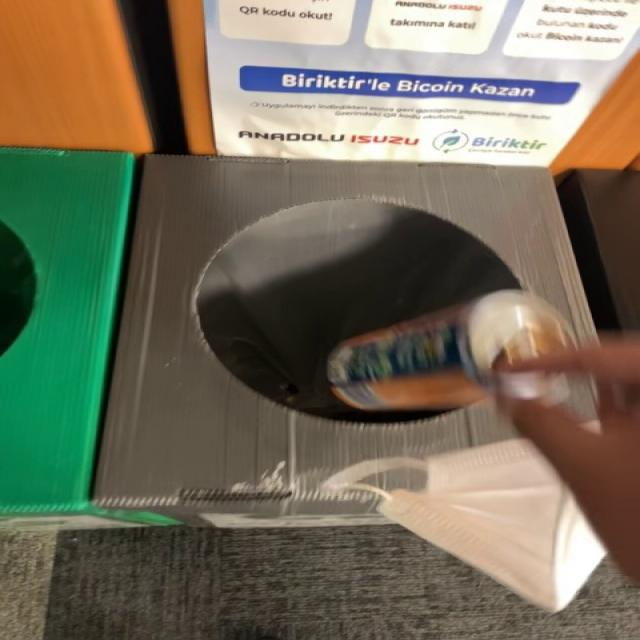bin: (93, 157, 596, 516)
metal: (328, 290, 576, 411)
